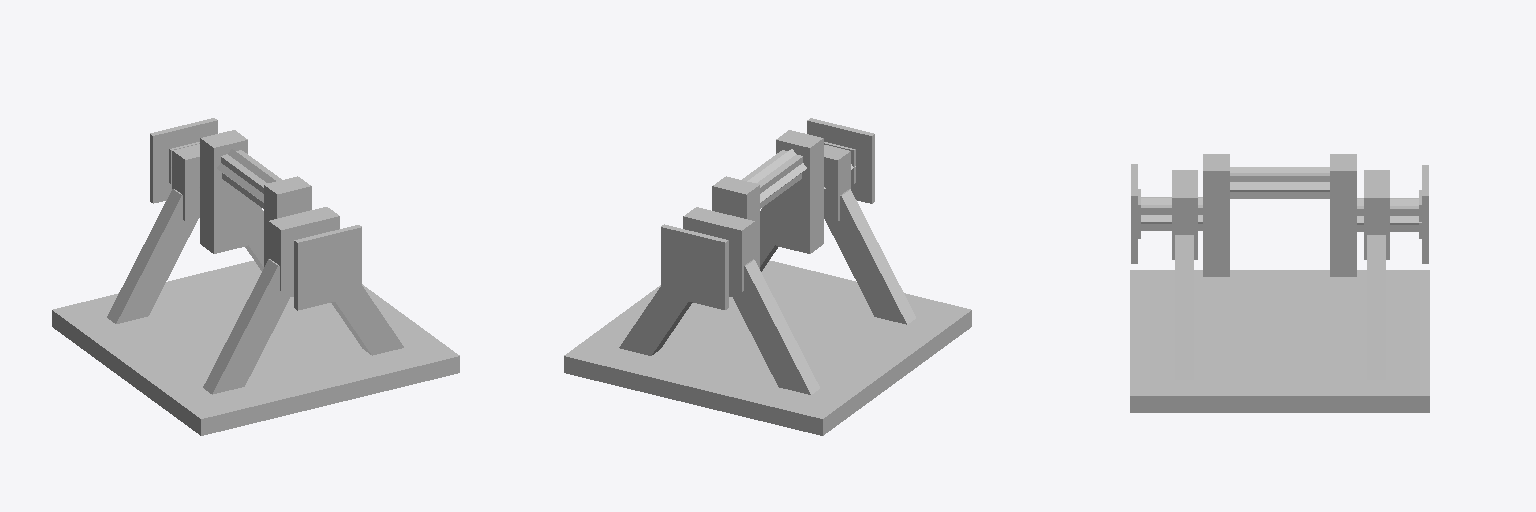
File: big_crankshaft.obj
3 views of the same model, side by side, from view 1: azimuth 30°, elevation 25°; view 2: azimuth 150°, elevation 25°; view 3: azimuth 270°, elevation 25° (orthographic).
Parts seen in each view (by area): view 1: base, axle.001; view 2: base, axle.001; view 3: base, axle.001.
Boxes of the visible parts, x1,y1,x2,y2 form: base: [52, 144, 459, 435]; axle.001: [150, 118, 361, 310]; base: [564, 145, 971, 435]; axle.001: [661, 118, 874, 309]; base: [1130, 170, 1429, 412]; axle.001: [1131, 154, 1428, 276].
Bounding box in the file's own units: 1 × 0.6923 × 1.